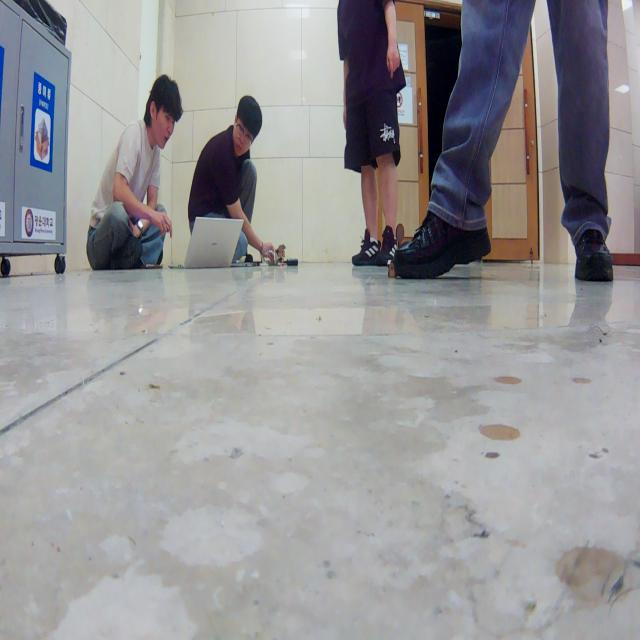target: (388, 221, 406, 277)
